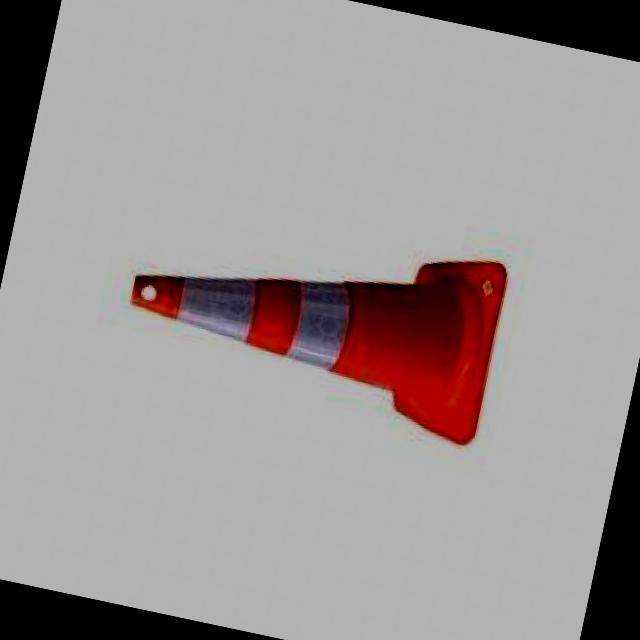cone: (107, 172, 524, 454)
